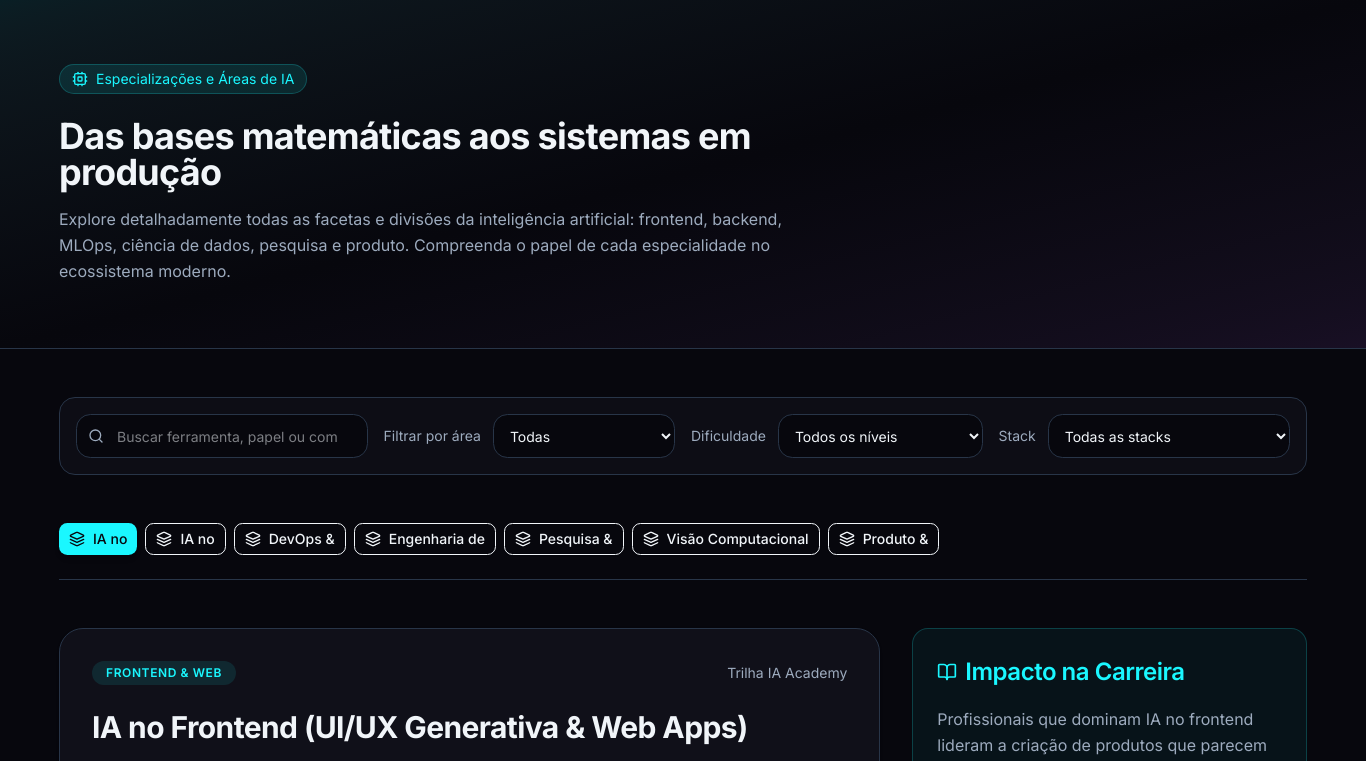
Test: Specializations interactions › filtra por dificuldade e stack tecnológica
Select "Avançado" in the dropdown labelled "Dificuldade" at [880, 436], box [778,414,982,458]
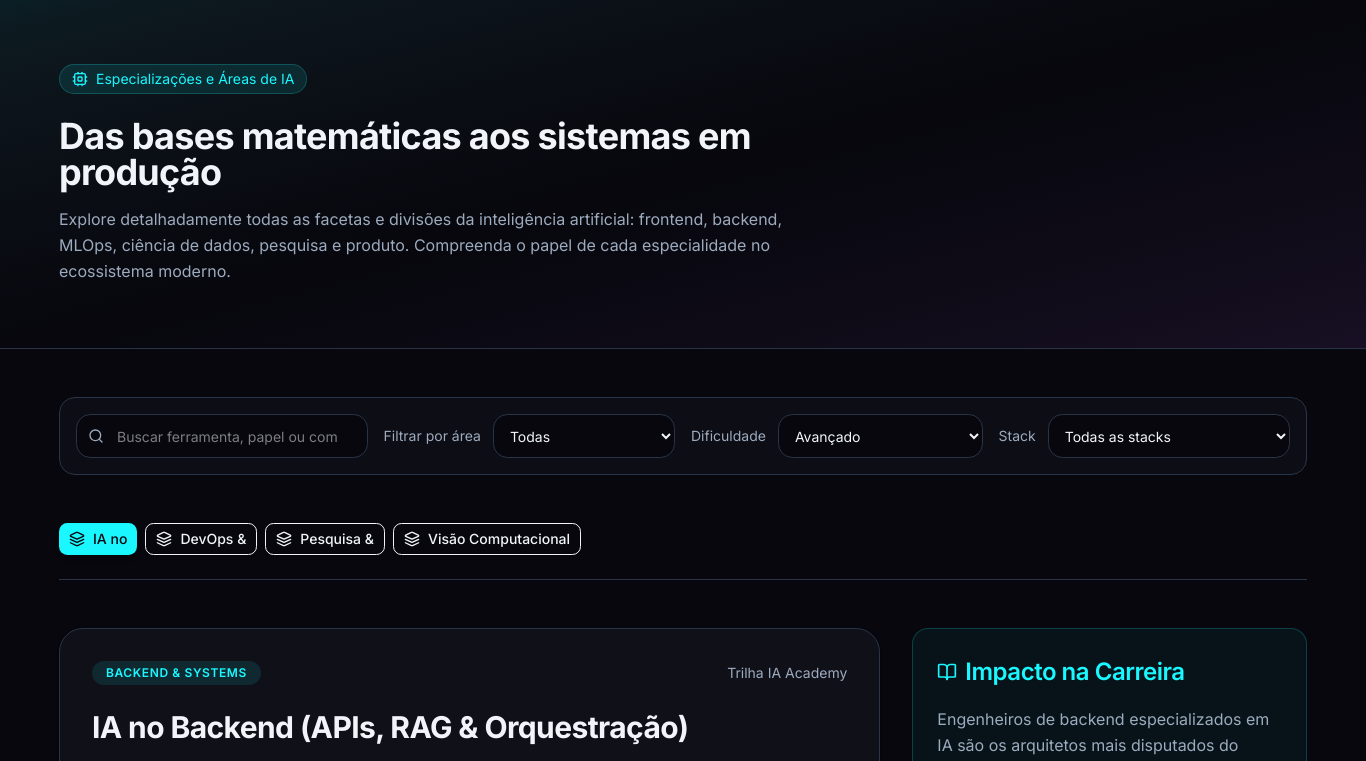
Select "OpenCV" in the dropdown named "stack tecnológica" at [1169, 436], box [1048,414,1290,458]
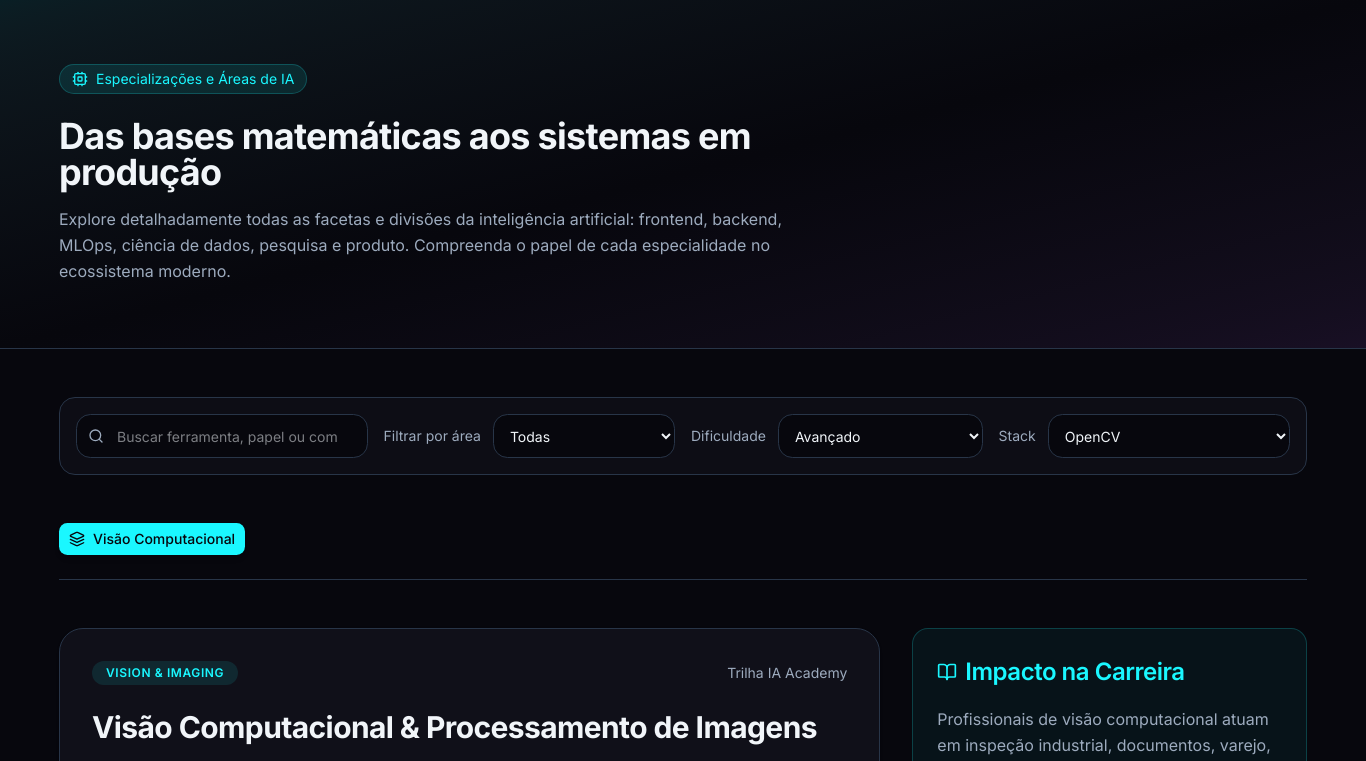
Now the heading "Visão Computacional & Processamento de Imagens" is shown, box [92,709,847,745]
